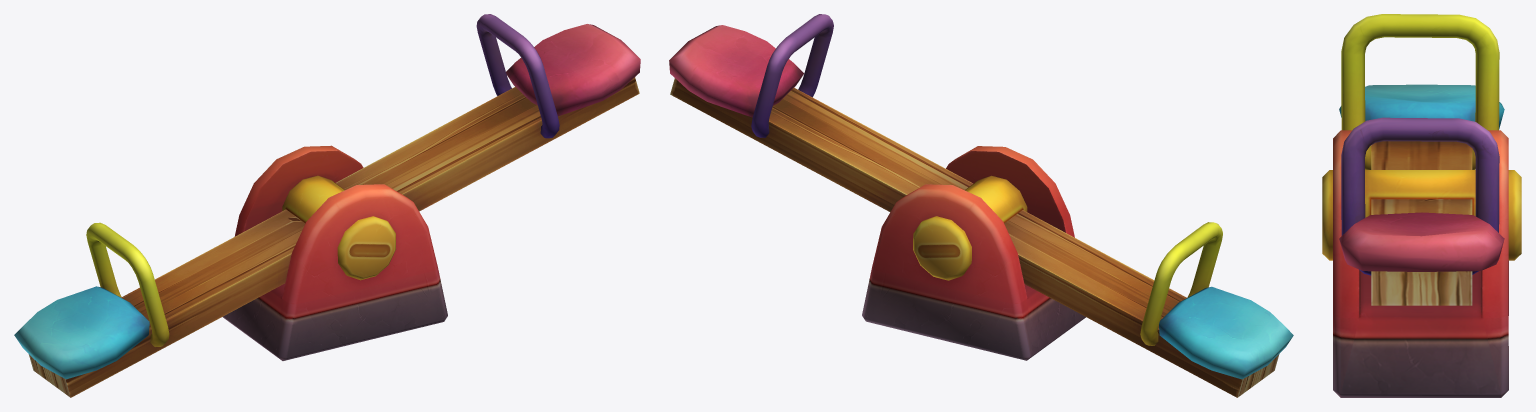
The model's file is SE_SeeSaw_01.fbx.
3 renders of one model, left to right at view 1: azimuth 30°, elevation 25°; view 2: azimuth 150°, elevation 25°; view 3: azimuth 270°, elevation 25°, orthographic. The views are drawn at different scales.
Visible parts, largest first — view 1: SE_SeeSaw_01; view 2: SE_SeeSaw_01; view 3: SE_SeeSaw_01.
Part boxes in pixels (left/top/right/bottom): SE_SeeSaw_01: left=14, top=14, right=640, bottom=397; SE_SeeSaw_01: left=669, top=14, right=1293, bottom=397; SE_SeeSaw_01: left=1322, top=14, right=1521, bottom=397.
Size of the model in its own units: 9.27 by 3.79 by 2.02.
